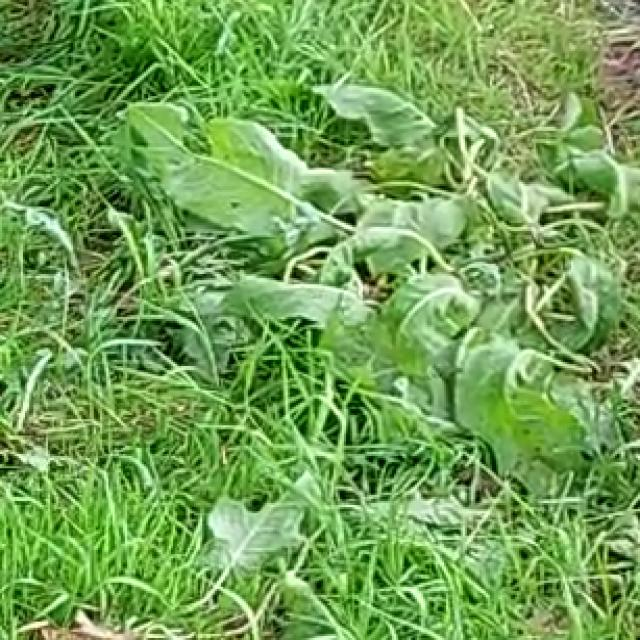organic waste: (194, 98, 640, 481)
